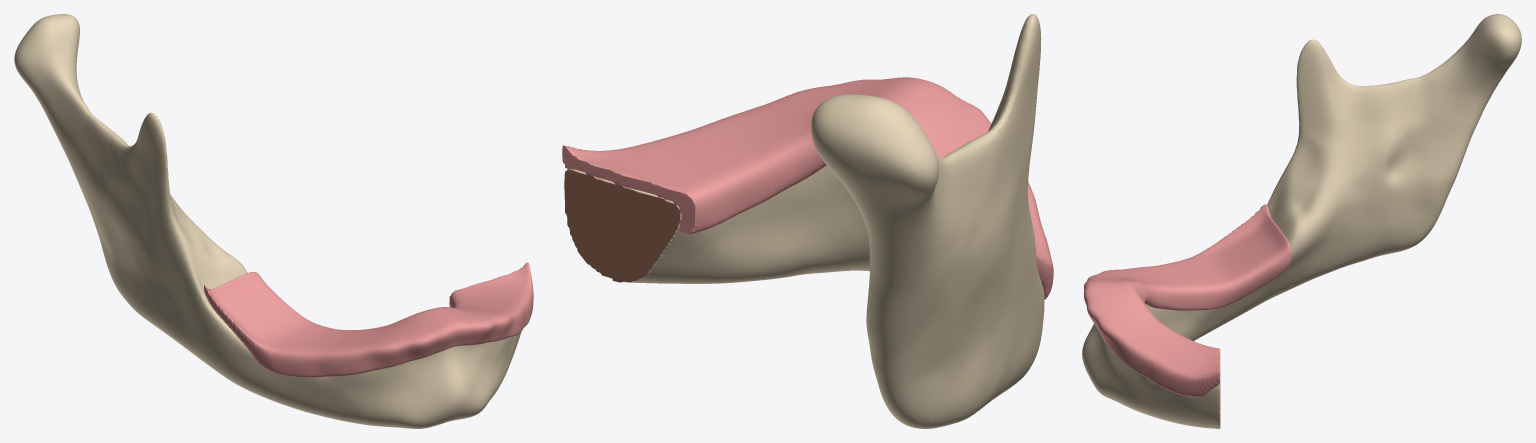
File: edentulous-cut.glb
3 renders of one model, left to right at view 1: azimuth 30°, elevation 25°; view 2: azimuth 150°, elevation 25°; view 3: azimuth 270°, elevation 25°, orthographic. The views are drawn at different scales.
Visible parts, largest first — view 1: bone, gum; view 2: bone, gum; view 3: bone, gum.
Boxes of the visible parts, <box> form: bone: <box>14,14,521,428</box>; gum: <box>204,262,533,377</box>; bone: <box>564,14,1044,428</box>; gum: <box>562,77,1053,299</box>; bone: <box>1082,14,1521,428</box>; gum: <box>1084,204,1291,397</box>.
Size of the model in its own units: 86.56 by 67.95 by 95.43.
